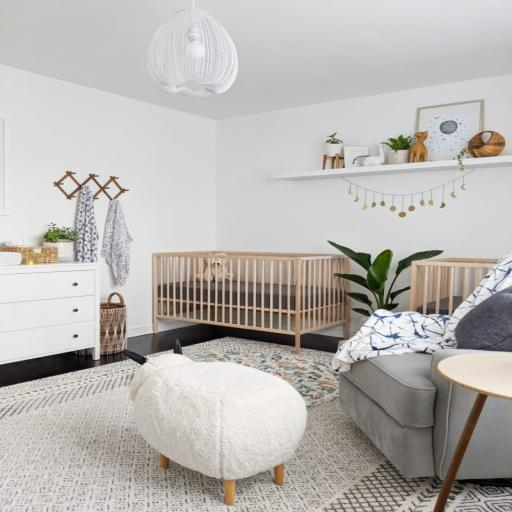crib: (154, 252, 349, 353), (410, 258, 496, 315)
